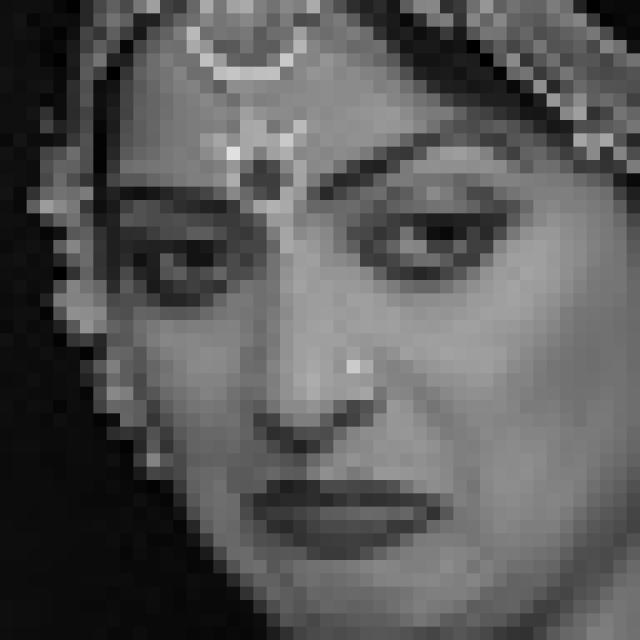disgust: (103, 123, 539, 572)
